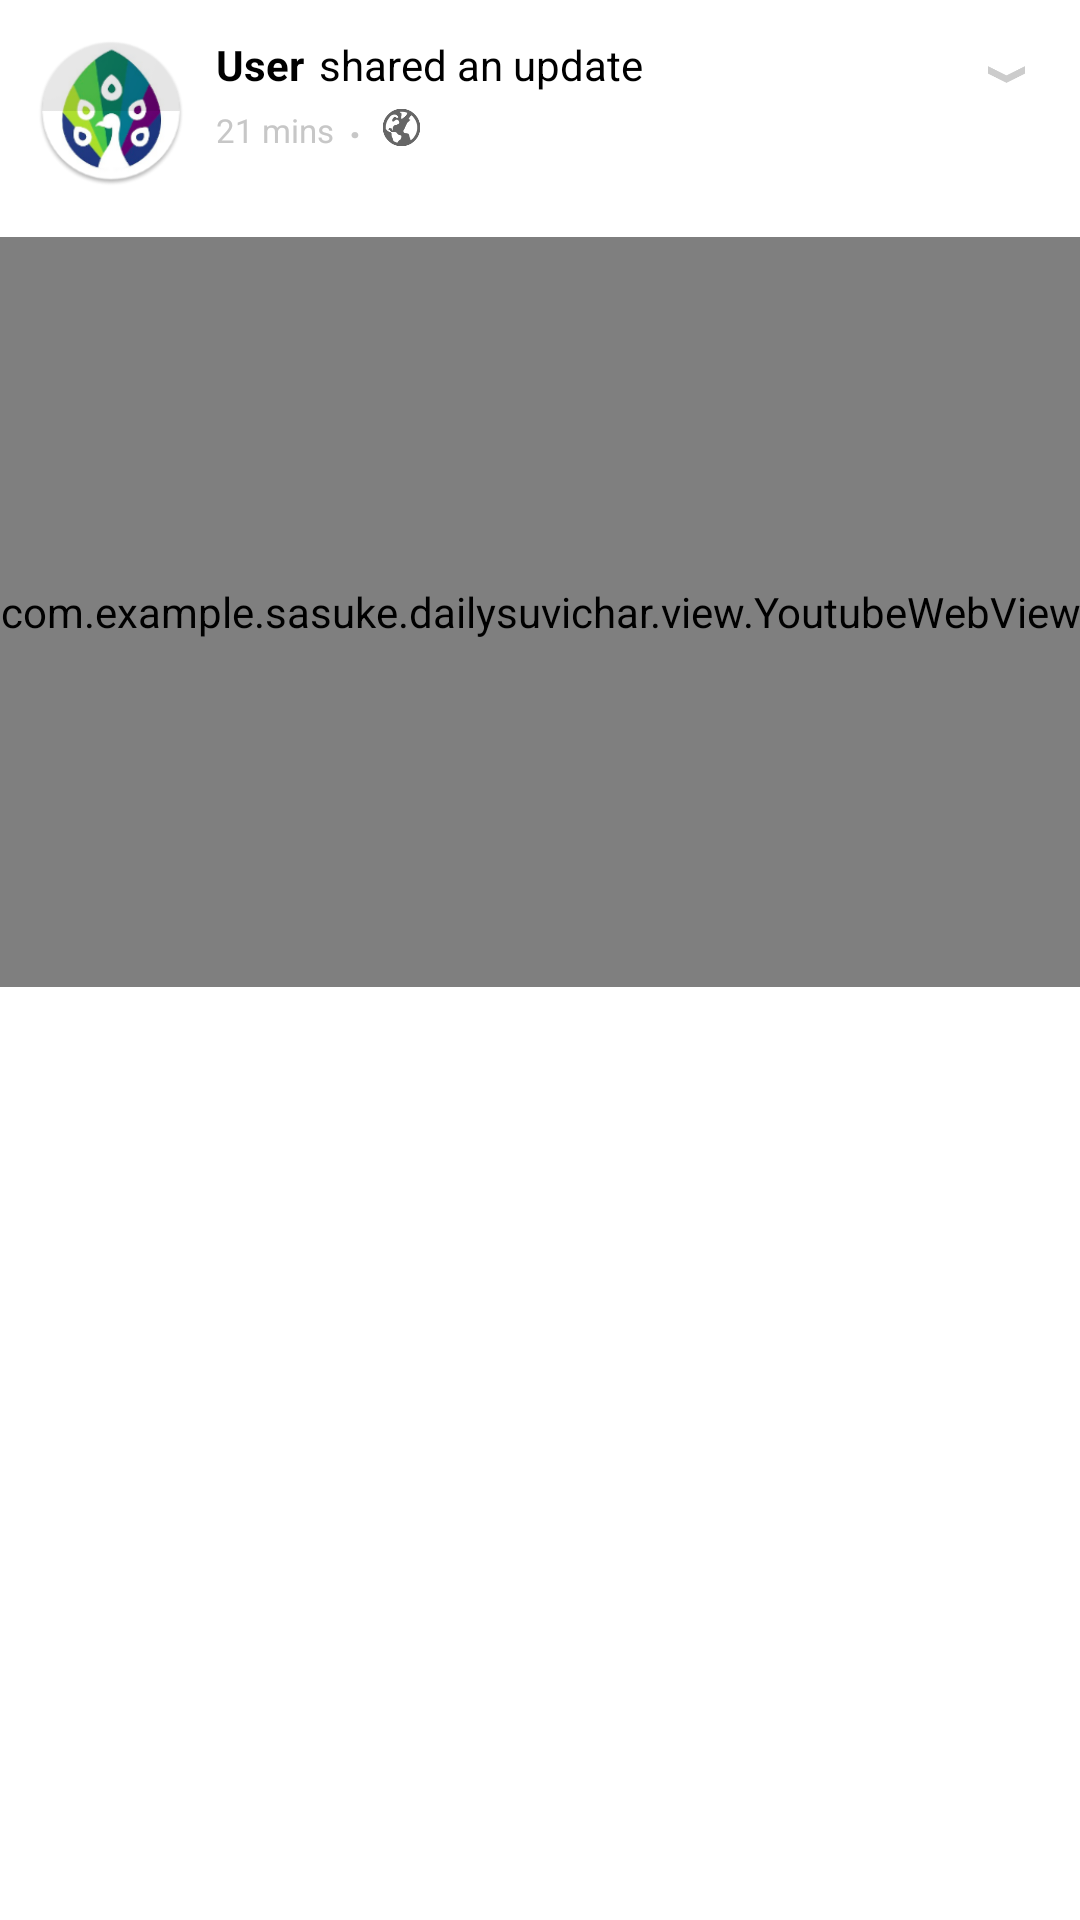

Icon click points for this 1080x1920 phone screenshot, format (x,y):
down: (1006,74)
globe: (401,127)
